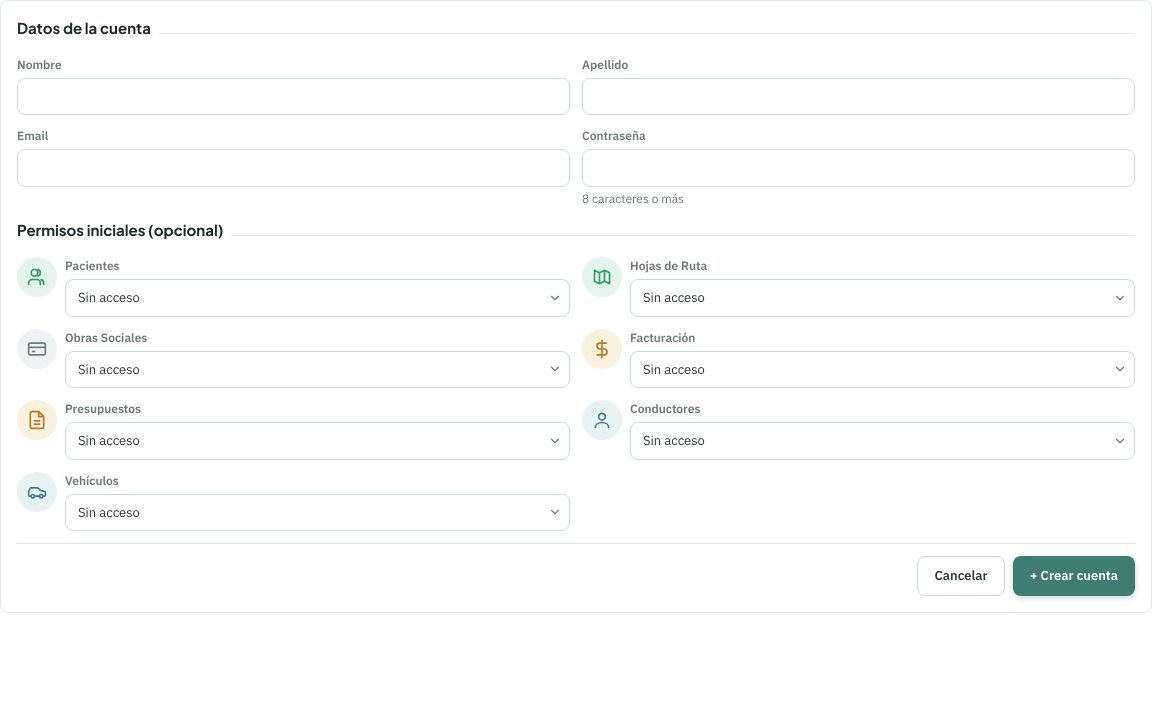
it: CuentaForm › campos obligatorios incompletos bloquean el envío y señalan los campos faltantes (triangulación)
Click the button "+ Crear cuenta" at point(1074, 576), box [1013, 556, 1135, 596]
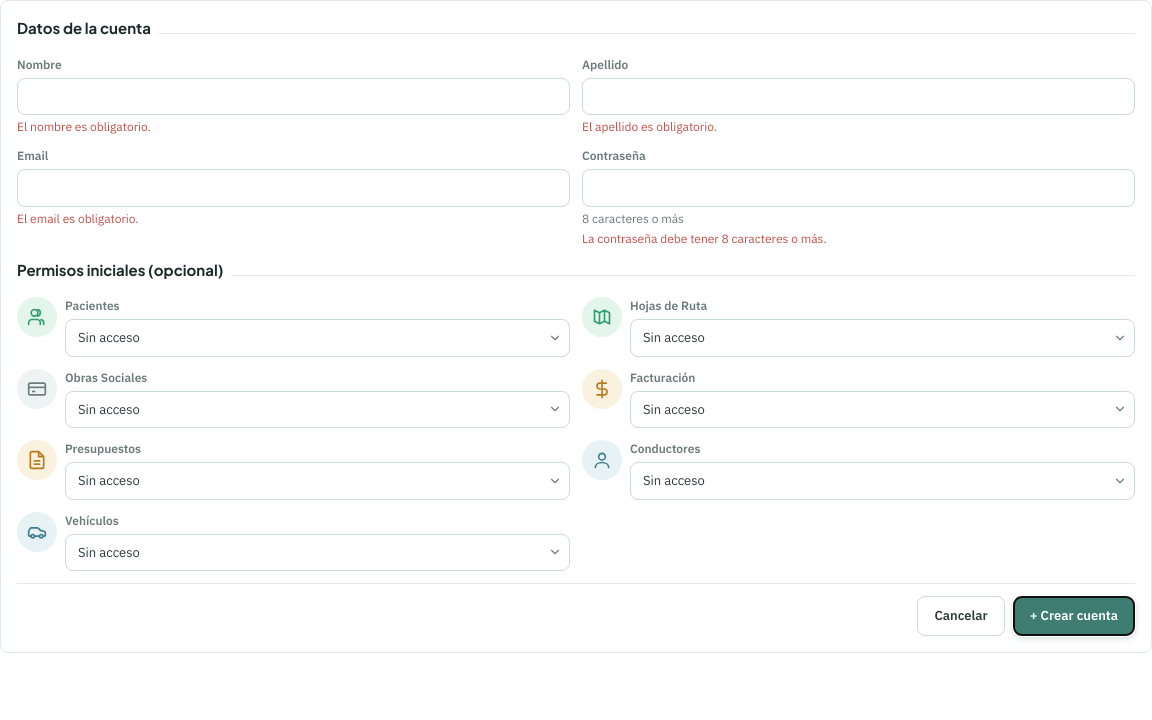
Now the text "El email es obligatorio." is shown, box [17, 210, 139, 226]
Now the text "El nombre es obligatorio." is shown, box [17, 119, 151, 134]
Now the text "El apellido es obligatorio." is shown, box [582, 119, 717, 134]
